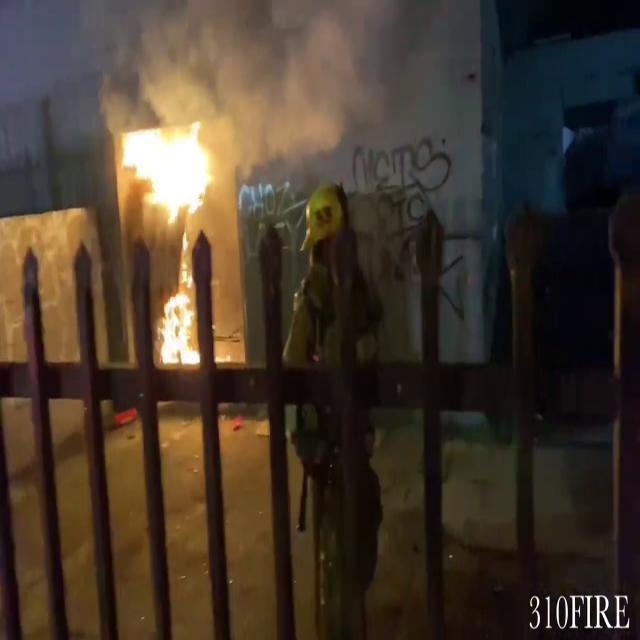Fire: (118, 112, 218, 218), (154, 262, 204, 374)
Smoke: (212, 1, 450, 173)
